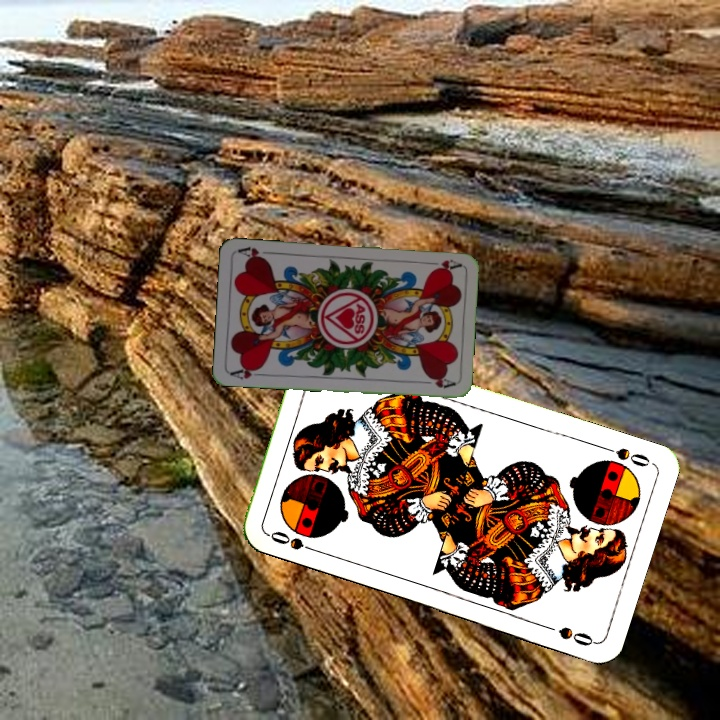HA: (227, 363, 268, 382), (422, 256, 463, 274)
SO: (264, 527, 321, 556), (597, 441, 653, 470)
